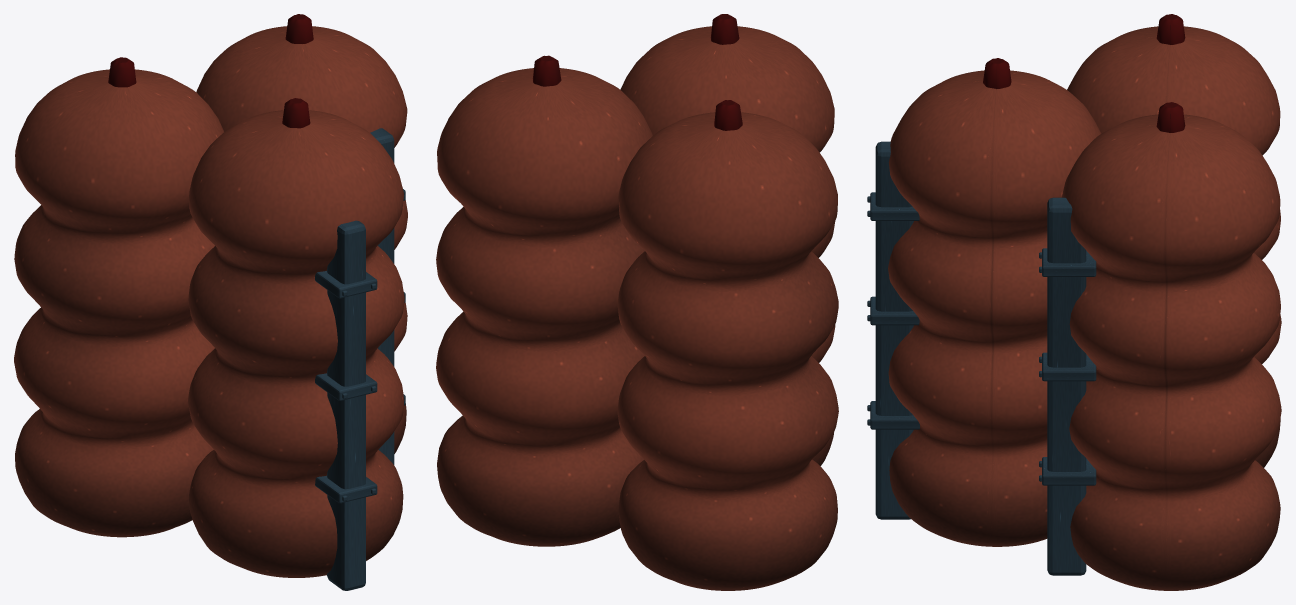
3 renders of one model, left to right at view 1: azimuth 30°, elevation 25°; view 2: azimuth 150°, elevation 25°; view 3: azimuth 270°, elevation 25°, orthographic. The views are drawn at different scales.
Parts seen in each view (by area): view 1: AC23 four-lobed storage column 0, AC23 four-lobed storage column 2, AC23 four-lobed storage column 1, AC23 grounded slate brace 0, AC23 grounded slate brace 1, AC23 brace strap 0 1, AC23 brace strap 0 0, AC23 brace strap 0 2, AC23 short red top tip 0, AC23 short red top tip 2, AC23 short red top tip 1; view 2: AC23 four-lobed storage column 0, AC23 four-lobed storage column 1, AC23 four-lobed storage column 2, AC23 short red top tip 0, AC23 short red top tip 1, AC23 short red top tip 2; view 3: AC23 four-lobed storage column 1, AC23 four-lobed storage column 2, AC23 four-lobed storage column 0, AC23 grounded slate brace 1, AC23 grounded slate brace 0, AC23 brace strap 1 1, AC23 brace strap 1 0, AC23 brace strap 1 2, AC23 brace strap 0 1, AC23 brace strap 0 0, AC23 brace strap 0 2, AC23 short red top tip 0 (+2 smaller).
Boxes of the visible parts, x1,y1,x2,y2 form: AC23 four-lobed storage column 0: (14, 69, 223, 537); AC23 four-lobed storage column 2: (188, 110, 404, 577); AC23 four-lobed storage column 1: (196, 26, 407, 453); AC23 grounded slate brace 0: (327, 220, 365, 590); AC23 grounded slate brace 1: (370, 128, 394, 464); AC23 brace strap 0 1: (315, 373, 377, 400); AC23 brace strap 0 0: (315, 475, 377, 503); AC23 brace strap 0 2: (315, 271, 377, 298); AC23 short red top tip 0: (108, 57, 136, 87); AC23 short red top tip 2: (282, 98, 310, 128); AC23 short red top tip 1: (285, 14, 313, 43); AC23 four-lobed storage column 0: (617, 112, 838, 590); AC23 four-lobed storage column 1: (436, 68, 652, 546); AC23 four-lobed storage column 2: (620, 26, 835, 465); AC23 short red top tip 0: (714, 100, 742, 130); AC23 short red top tip 1: (533, 55, 561, 86); AC23 short red top tip 2: (711, 14, 739, 44); AC23 four-lobed storage column 1: (1062, 114, 1281, 590); AC23 four-lobed storage column 2: (888, 70, 1101, 546); AC23 four-lobed storage column 0: (1067, 26, 1281, 467); AC23 grounded slate brace 1: (1047, 197, 1086, 575); AC23 grounded slate brace 0: (875, 141, 913, 519); AC23 brace strap 1 1: (1042, 352, 1096, 381); AC23 brace strap 1 0: (1042, 457, 1096, 485); AC23 brace strap 1 2: (1042, 248, 1096, 276); AC23 brace strap 0 1: (870, 296, 919, 325); AC23 brace strap 0 0: (870, 401, 919, 429); AC23 brace strap 0 2: (870, 192, 919, 220); AC23 short red top tip 0: (1156, 14, 1185, 44).
Bounding box in the file's own units: 1.98 × 2.31 × 1.91.
Materials: 3 (3 with a texture image).
